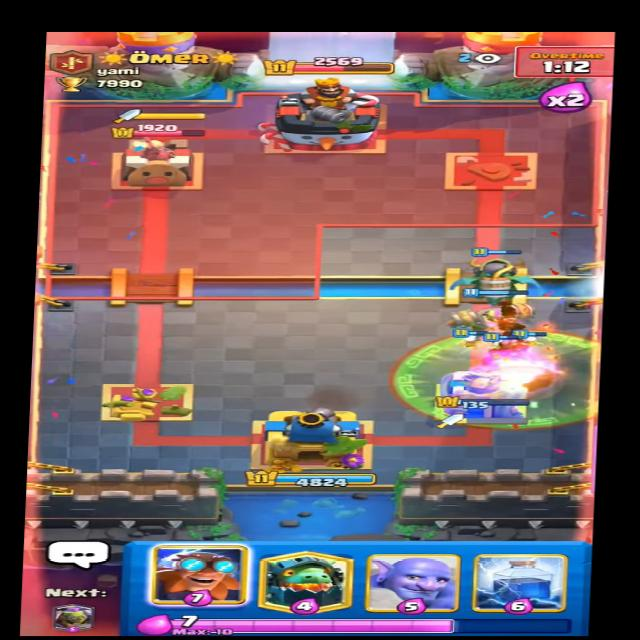goblin-curse: (386, 333, 604, 428)
